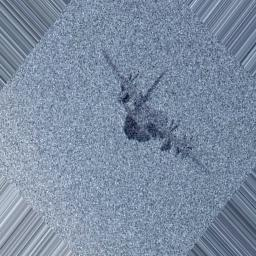Airplane: (101, 46, 207, 170)
